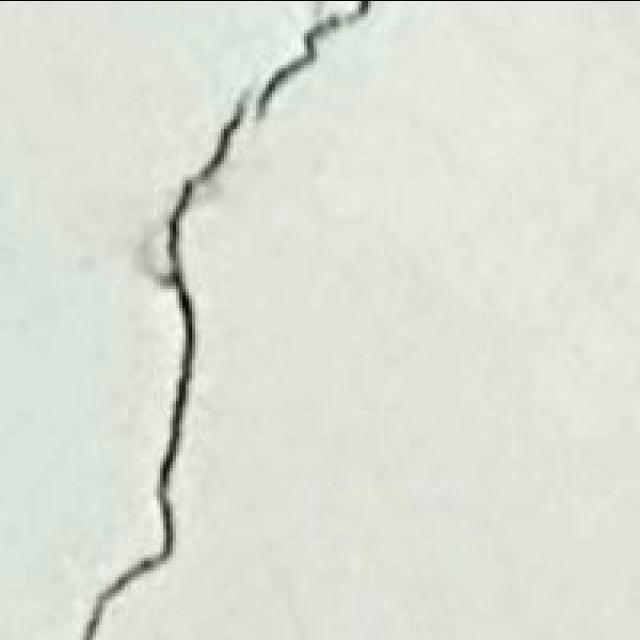SurfaceCrack: (54, 0, 372, 640)
